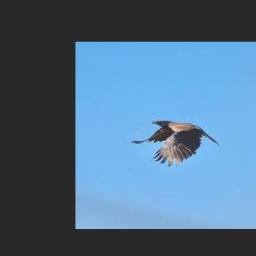Crow: (130, 120, 219, 166)
